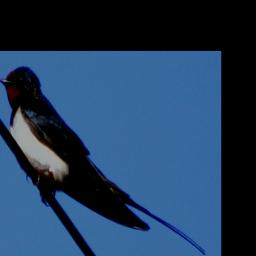Swallow: (0, 65, 209, 256)
